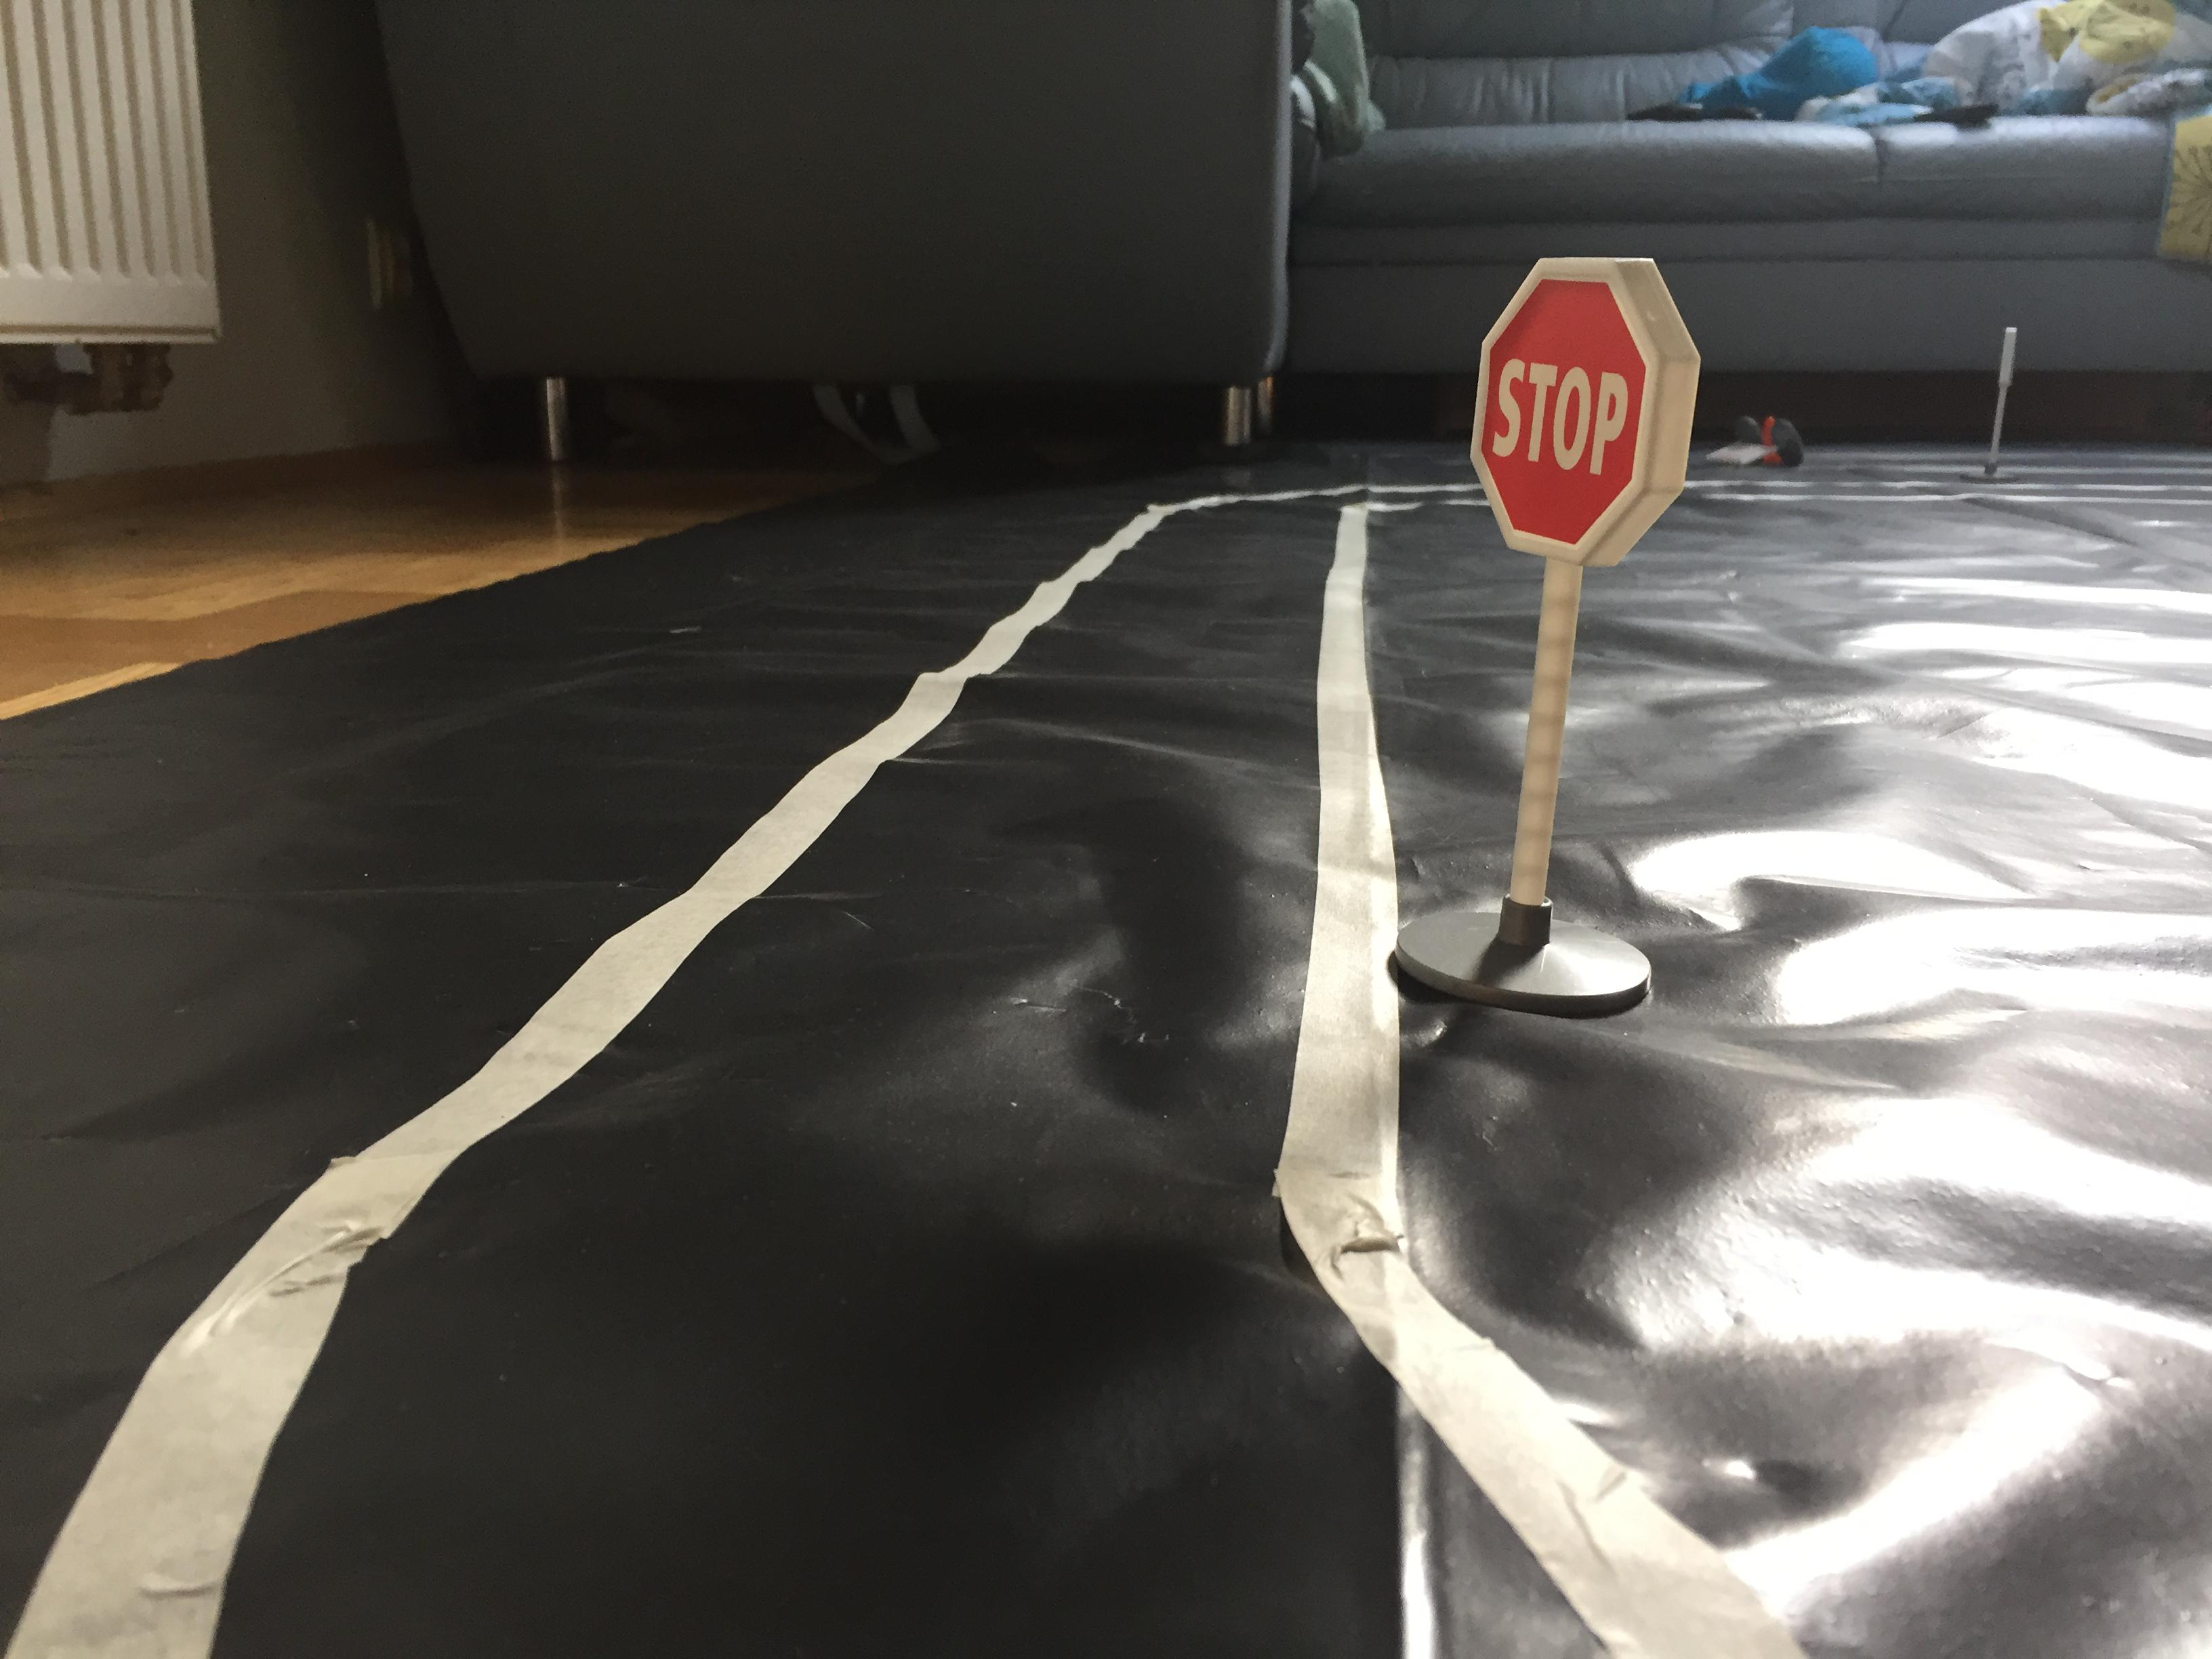stop: (1456, 244, 1714, 579)
